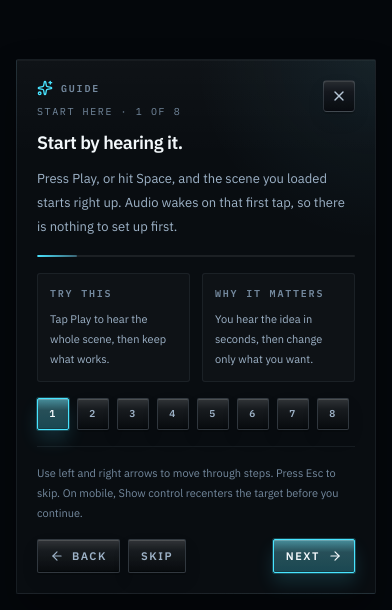
Test case: OnboardingGuide › keeps the complete eight step tour available inside the studio
The width and height of the screenshot is (392, 610).
Expected: the text "Start here · 1 of 8" is shown, [37,104,181,119]
What coordinates should you click on to do the following:
click the button named "Jump to guide step 2: Workflow"
I would click on:
 (93, 414)
Its box is [77,398,109,430].
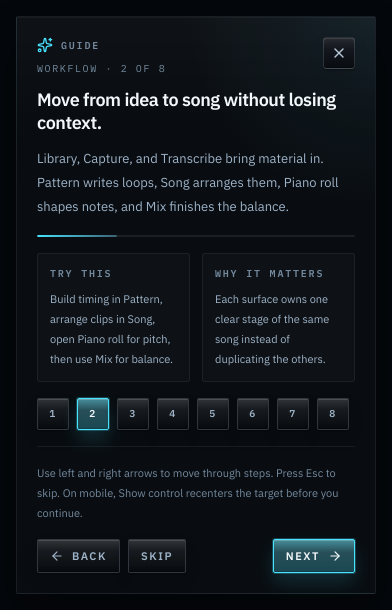
Now the heading "Move from idea to song without losing context." is shown, box [37,88,355,134]
